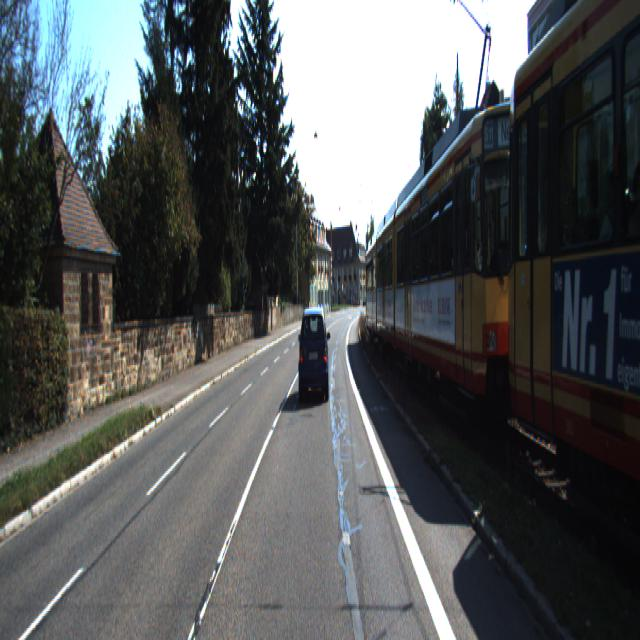Car: (508, 0, 640, 596), (392, 72, 558, 454), (375, 198, 426, 367), (365, 226, 400, 349), (299, 304, 331, 404)
